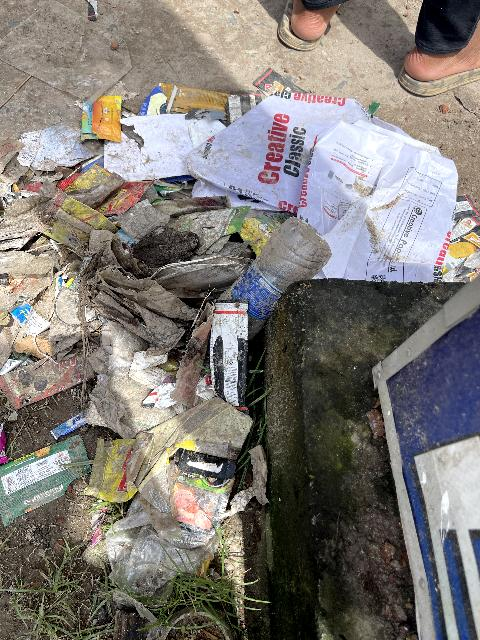bottle: (189, 213, 352, 338)
